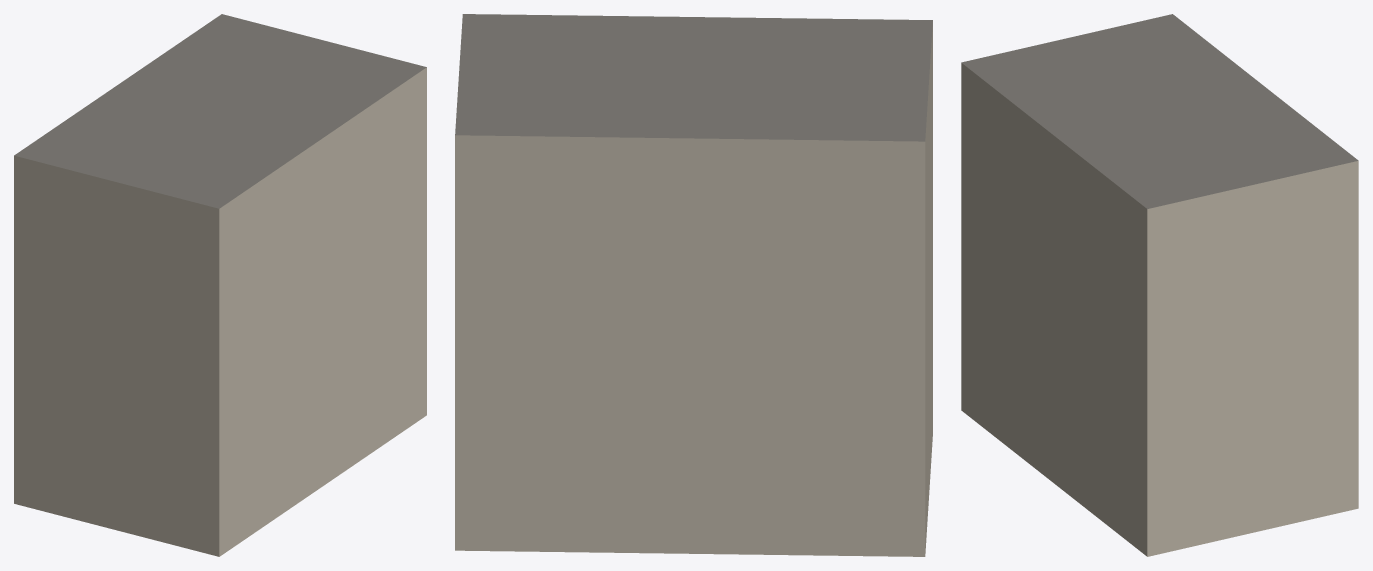
3 views of the same model, side by side, from view 1: azimuth 30°, elevation 25°; view 2: azimuth 150°, elevation 25°; view 3: azimuth 270°, elevation 25° (orthographic). The views are drawn at different scales.
Parts seen in each view (by area): view 1: HP-w378107103; view 2: HP-w378107103; view 3: HP-w378107103.
Boxes of the visible parts, box(x1,y1,x2,y2) form: HP-w378107103: box(14, 14, 426, 556); HP-w378107103: box(455, 14, 932, 556); HP-w378107103: box(961, 14, 1358, 556).
Bounding box in the file's own units: 21.66 × 18 × 18.65.
